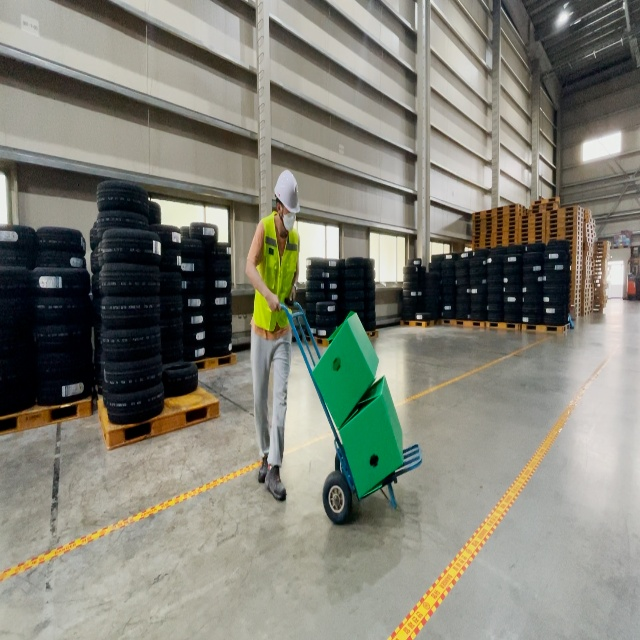Box: (338, 373, 404, 501), (312, 310, 380, 431)
Worker: (244, 168, 301, 504)
